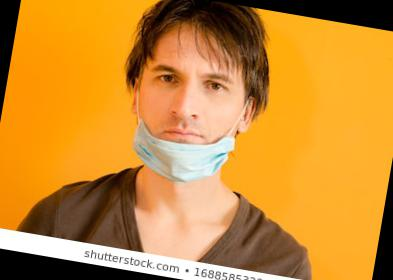mask_weared_incorrect: (127, 57, 251, 185)
